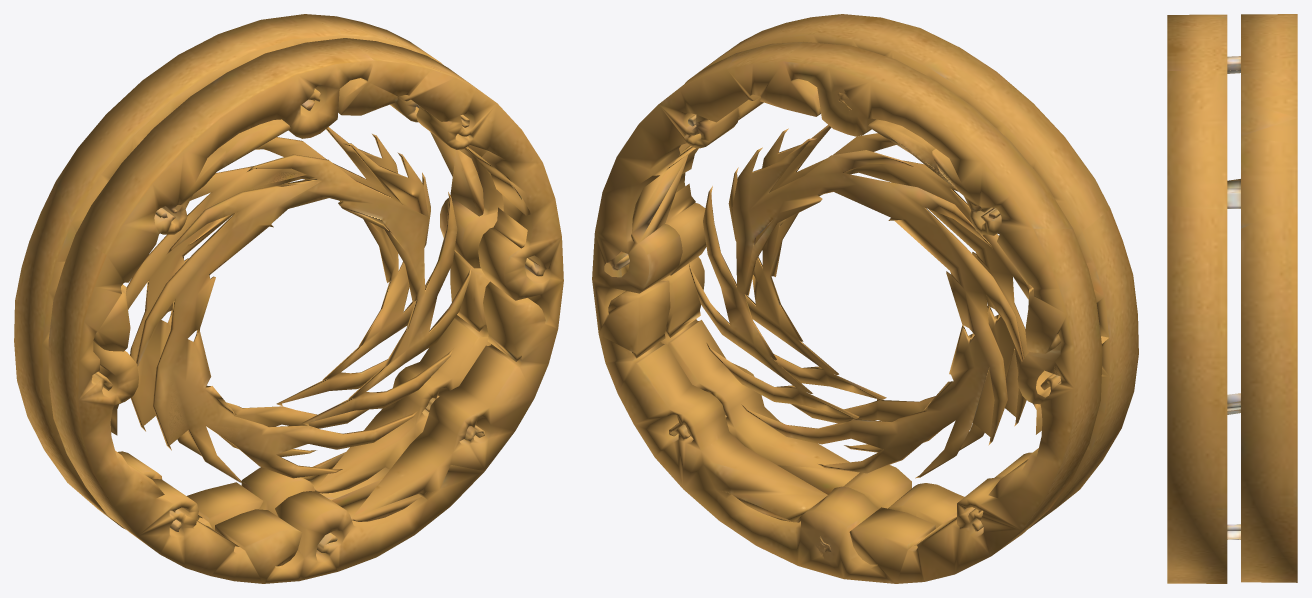
File: sunbird-emblem.glb
3 renders of one model, left to right at view 1: azimuth 30°, elevation 25°; view 2: azimuth 150°, elevation 25°; view 3: azimuth 270°, elevation 25°, orthographic.
Parts seen in each view (by area): view 1: tripo_node_afe106ef-159a-490b-b40b-c4d14fcf2072; view 2: tripo_node_afe106ef-159a-490b-b40b-c4d14fcf2072; view 3: tripo_node_afe106ef-159a-490b-b40b-c4d14fcf2072.
Part boxes in pixels (left/top/right/bottom): tripo_node_afe106ef-159a-490b-b40b-c4d14fcf2072: left=14, top=14, right=563, bottom=583; tripo_node_afe106ef-159a-490b-b40b-c4d14fcf2072: left=592, top=14, right=1138, bottom=583; tripo_node_afe106ef-159a-490b-b40b-c4d14fcf2072: left=1167, top=14, right=1297, bottom=583.
Size of the model in its own units: 0.998 by 0.998 by 0.2285.
Materials: 1 (1 with a texture image).
